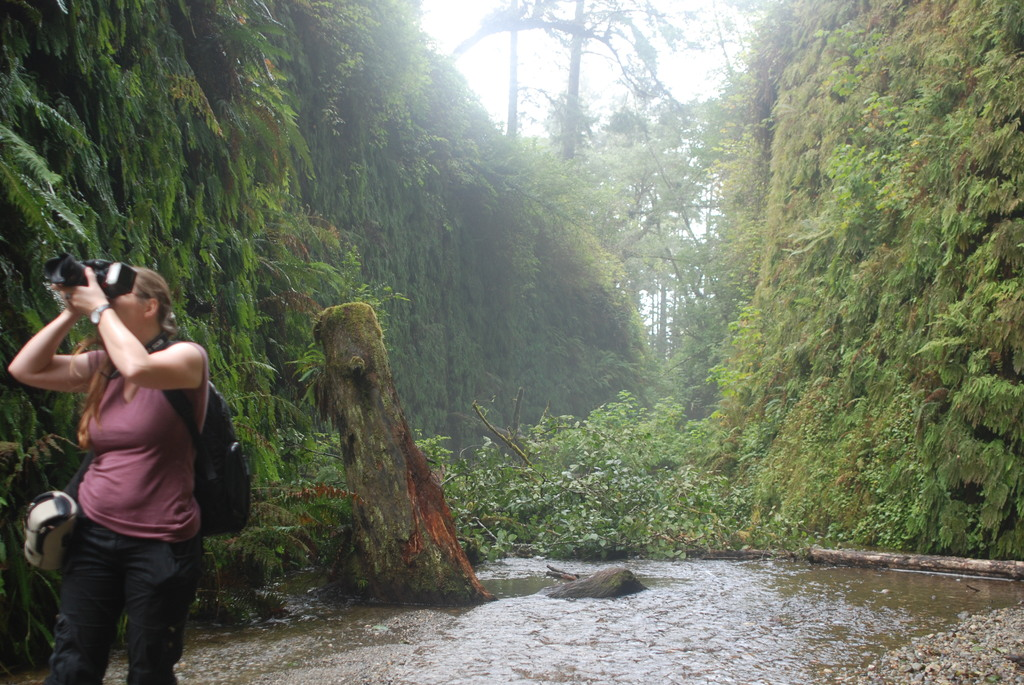Tree: (0, 0, 1023, 656)
